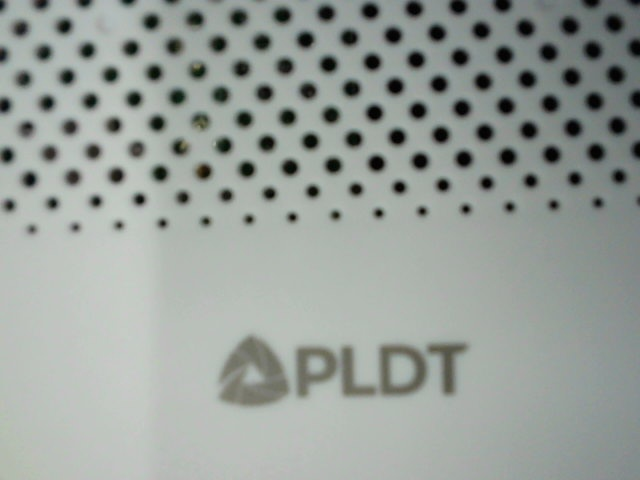BH_PLDT: (199, 317, 480, 417)
